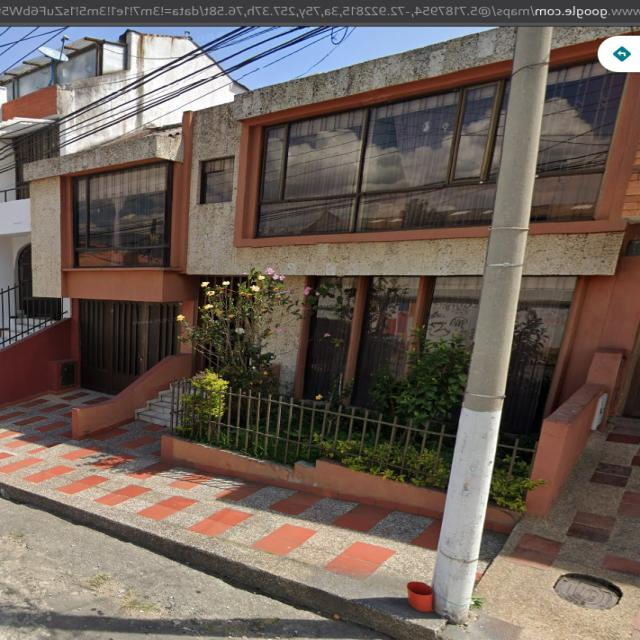Fachada: (26, 27, 640, 514), (1, 30, 244, 343)
Poste: (434, 27, 552, 623)
